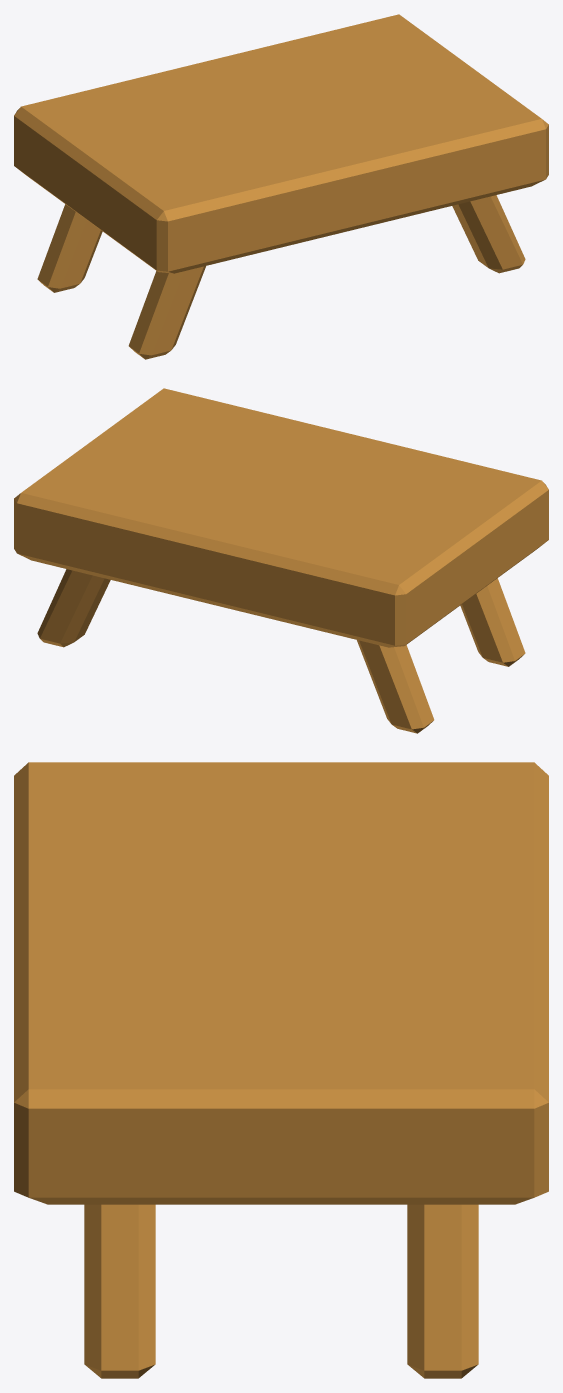
The model's file is table.glb.
The picture shows the model from 3 angles, top to bottom: view 1: azimuth 30°, elevation 25°; view 2: azimuth 150°, elevation 25°; view 3: azimuth 270°, elevation 25°; orthographic projection. The views are drawn at different scales.
Visible parts, largest first — view 1: mesh; view 2: mesh; view 3: mesh.
Part boxes in pixels (box(x1,y1,x2,y2)): mesh: box(14, 14, 548, 359); mesh: box(14, 388, 548, 733); mesh: box(14, 762, 548, 1378).
Bounding box in the file's own units: 3 × 1.2 × 2.
